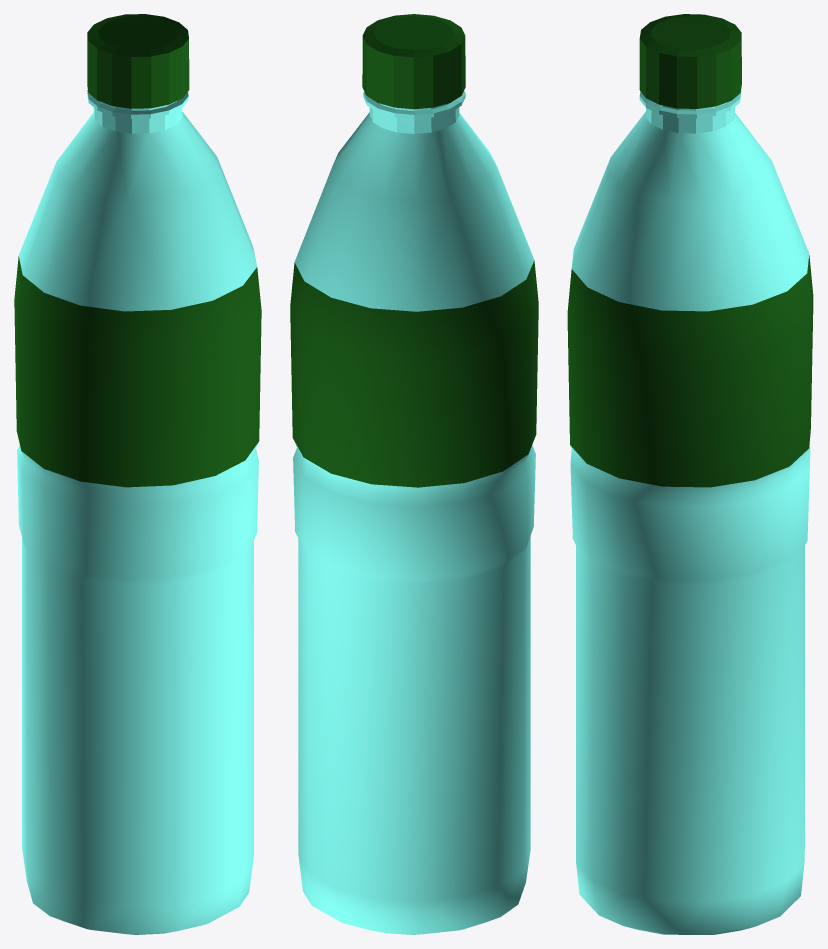
File: Bottled Water.fbx
The picture shows the model from 3 angles, left to right: view 1: azimuth 30°, elevation 25°; view 2: azimuth 150°, elevation 25°; view 3: azimuth 270°, elevation 25°; orthographic projection.
Parts seen in each view (by area): view 1: Node 0; view 2: Node 0; view 3: Node 0.
Boxes of the visible parts, x1,y1,x2,y2 form: Node 0: [14, 14, 261, 934]; Node 0: [290, 14, 538, 934]; Node 0: [567, 14, 813, 934].
Bounding box in the file's own units: 0.0466 × 0.1807 × 0.0466.
